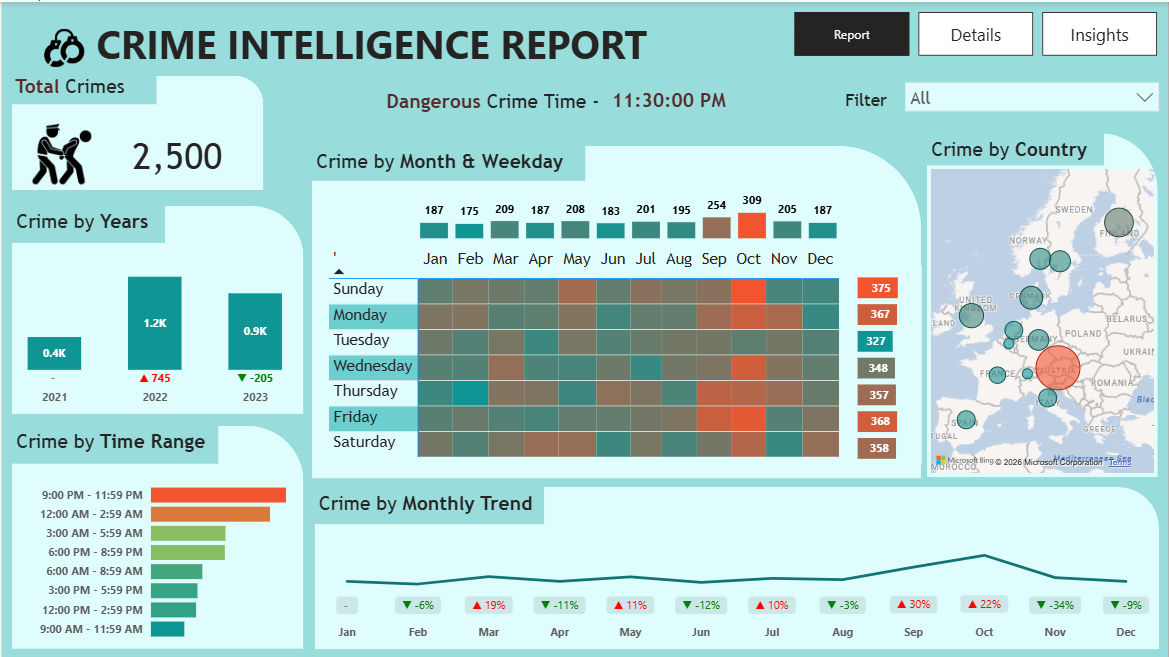

What the dashboard file says about the page in this screenshot:
{"tool":"powerbi","page":{"name":"Report","canvas":[1280,720],"ordinal":0},"visuals":[{"type":"shape","box":[340.4,158.3,668.8,365.4],"z":0},{"type":"shape","box":[1015.8,143.6,253.4,377.6],"z":1000},{"type":"shape","box":[342.7,532,927.1,178.5],"z":2000},{"type":"shape","box":[10.7,465.3,320.1,245.2],"z":3000},{"type":"shape","box":[10.7,223.7,320.1,228.5],"z":4000},{"type":"shape","box":[10.9,80.8,276.2,125.4],"z":5000},{"type":"columnChart","fields":{"Category":["Date Table.Year"],"Y":["Calculations.Blank Measure (Year)","Calculations.Total Crimes"]},"box":[23.8,274.9,289.2,177.3],"z":6000},{"type":"card","fields":{"Values":["Calculations.Total Crimes"]},"box":[98.9,130.3,188.1,74.8],"z":7000},{"type":"lineChart","fields":{"Category":["Date Table.Month"],"Y":["Calculations.Blank Measure (Month)","Calculations.Total Crimes"]},"box":[342.7,572.4,927.1,138],"z":8000},{"type":"clusteredBarChart","fields":{"Category":["Crime Data.Time Groups"],"Y":["Calculations.Total Crimes"]},"box":[35.7,511.7,285.6,198.7],"z":9000},{"type":"pivotTable","fields":{"Rows":["Date Table.WeekDay"],"Columns":["Date Table.Month"],"Values":["Calculations.Total Crimes"]},"box":[353.5,264.2,580.8,247.5],"z":10000},{"type":"columnChart","fields":{"Y":["Calculations.Total Crimes"],"Category":["Date Table.Month"]},"box":[454.6,198.7,467.7,66.6],"z":11000},{"type":"barChart","fields":{"Category":["Date Table.WeekDay"],"Y":["Calculations.Total Crimes"]},"box":[934.2,289.2,75,217.8],"z":12000},{"type":"textbox","box":[397.1,65.7,395.7,62.9],"z":13000},{"type":"textbox","box":[834.2,67.8,392.7,61.9],"z":14000},{"type":"map","fields":{"Category":["Crime Data.Country"],"Size":["Calculations.Total Crimes"]},"box":[1015.7,178.6,254.3,344.3],"z":15000},{"type":"image","box":[10.9,129,109.7,76],"z":16000},{"type":"image","box":[24.3,22.9,87.1,54.3],"z":17000},{"type":"textbox","box":[98.6,11.4,758.6,75.7],"z":18000},{"type":"textbox","box":[10.7,223.7,167.8,40.5],"z":19000},{"type":"textbox","box":[10,75,160,36.7],"z":20000},{"type":"textbox","box":[10.7,465.3,226.1,41.7],"z":21000},{"type":"textbox","box":[342.7,532,252.3,40.5],"z":22000},{"type":"textbox","box":[340.4,158.3,299.9,38.1],"z":23000},{"type":"textbox","box":[1015.8,143.6,194.2,35],"z":24000},{"type":"slicer","fields":{"Values":["Crime Types.Crime"]},"box":[981.4,78.6,298.6,64.3],"z":25000},{"type":"textbox","box":[921.4,91.4,77.1,41.4],"z":26000},{"type":"textbox","box":[417.1,74.3,257.1,55.7],"z":27000},{"type":"card","fields":{"Values":["Min(Crime Data.Crime Time)"]},"box":[658.6,87.1,147.1,42.9],"z":28000},{"type":"pageNavigator","box":[870,11.4,400,48.6],"z":29000}]}

Visuals, with their boxes in screenshot pixels (x1, y1, x2, y2), scaled from the page's 1280x720 canvas onto the 1169x657 screenshot:
shape: 311, 144, 922, 478
shape: 928, 131, 1159, 476
shape: 313, 485, 1160, 648
shape: 10, 425, 302, 648
shape: 10, 204, 302, 413
shape: 10, 74, 262, 188
columnChart - Date Table.Year x Calculations.Blank Measure (Year): 22, 251, 286, 413
card - Calculations.Total Crimes: 90, 119, 262, 187
lineChart - Date Table.Month x Calculations.Blank Measure (Month): 313, 522, 1160, 648
clusteredBarChart - Crime Data.Time Groups x Calculations.Total Crimes: 33, 467, 293, 648
pivotTable - Date Table.WeekDay x Date Table.Month: 323, 241, 853, 467
columnChart - Calculations.Total Crimes x Date Table.Month: 415, 181, 842, 242
barChart - Date Table.WeekDay x Calculations.Total Crimes: 853, 264, 922, 463
textbox: 363, 60, 724, 117
textbox: 762, 62, 1121, 118
map - Crime Data.Country x Calculations.Total Crimes: 928, 163, 1160, 477
image: 10, 118, 110, 187
image: 22, 21, 102, 70
textbox: 90, 10, 783, 79
textbox: 10, 204, 163, 241
textbox: 9, 68, 155, 102
textbox: 10, 425, 216, 463
textbox: 313, 485, 543, 522
textbox: 311, 144, 585, 179
textbox: 928, 131, 1105, 163
slicer - Crime Types.Crime: 896, 72, 1168, 130
textbox: 841, 83, 912, 121
textbox: 381, 68, 616, 119
card - Min(Crime Data.Crime Time): 601, 79, 736, 119
pageNavigator: 795, 10, 1160, 55
